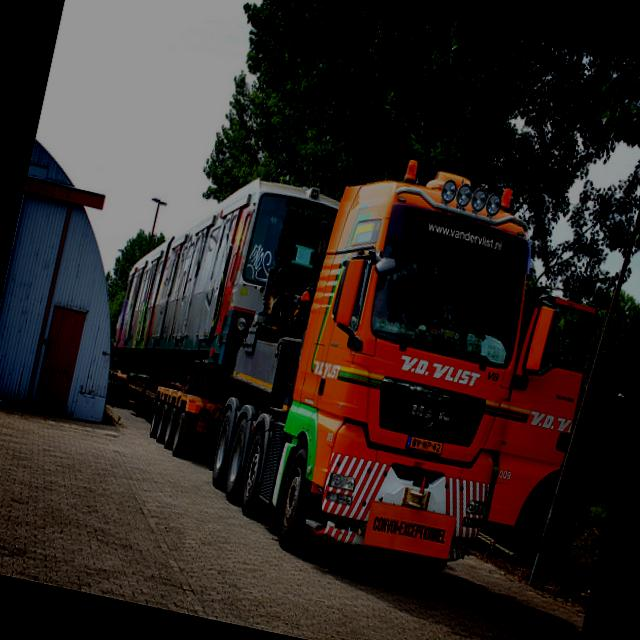Vehicle: (74, 103, 620, 610), (107, 153, 340, 390)
